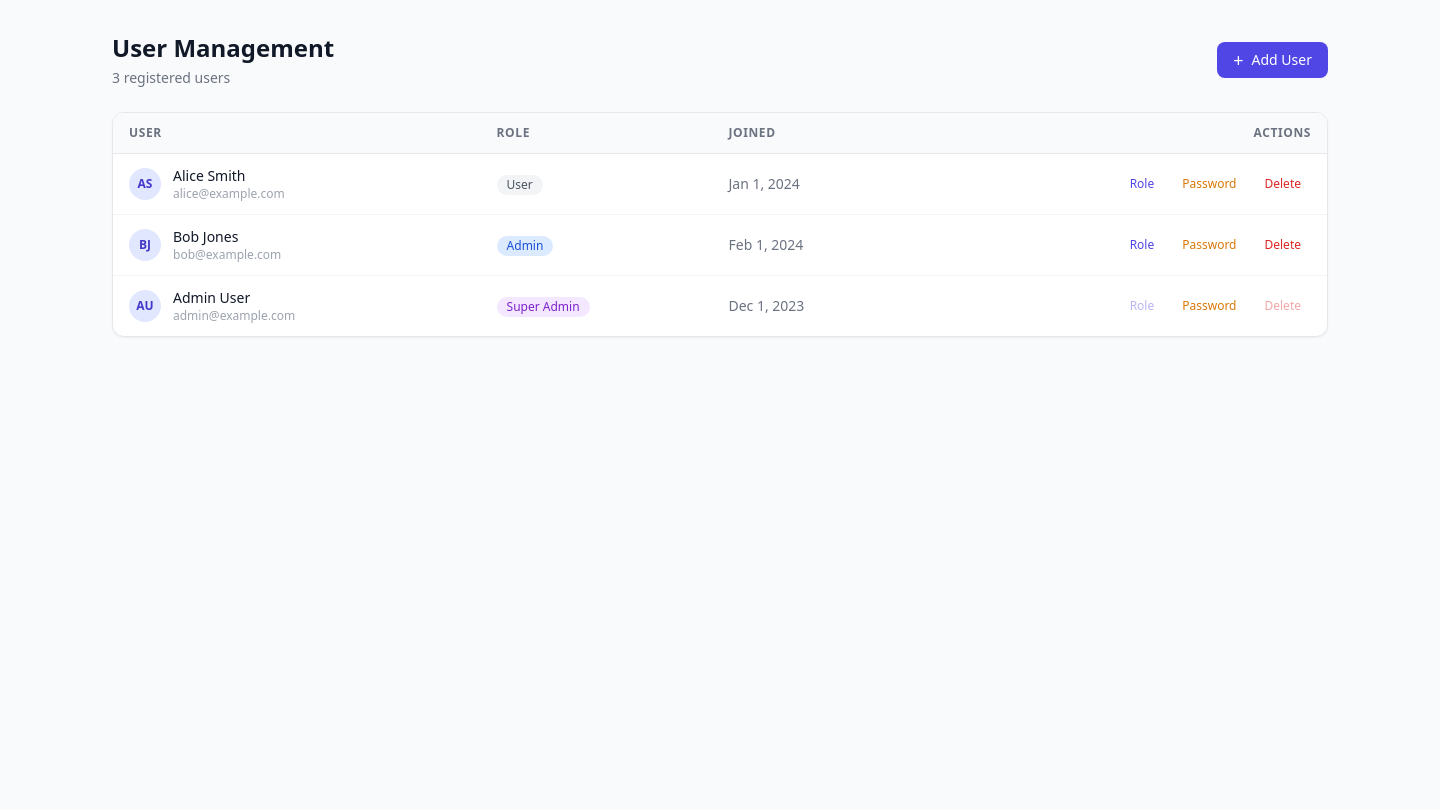
Test: Admin — ChangeRoleModal › opens ChangeRoleModal when Role button is clicked
# Click Role for the first user (Alice Smith)
Click the button "Role" in the row of "Alice Smith": (1142, 184) [1120,172,1164,196]
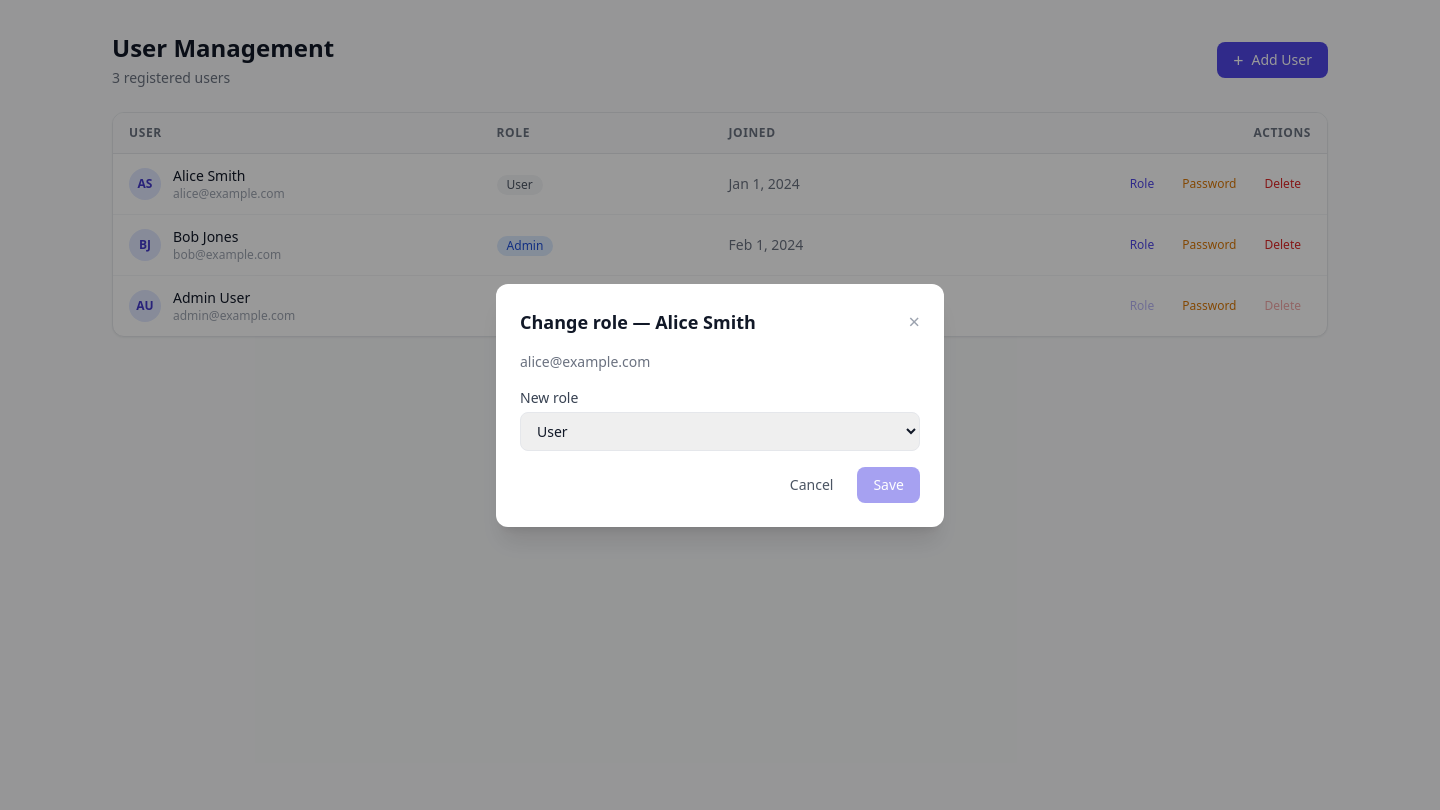
Result: the heading "Change role — Alice Smith" is shown at [520,308,756,336]
